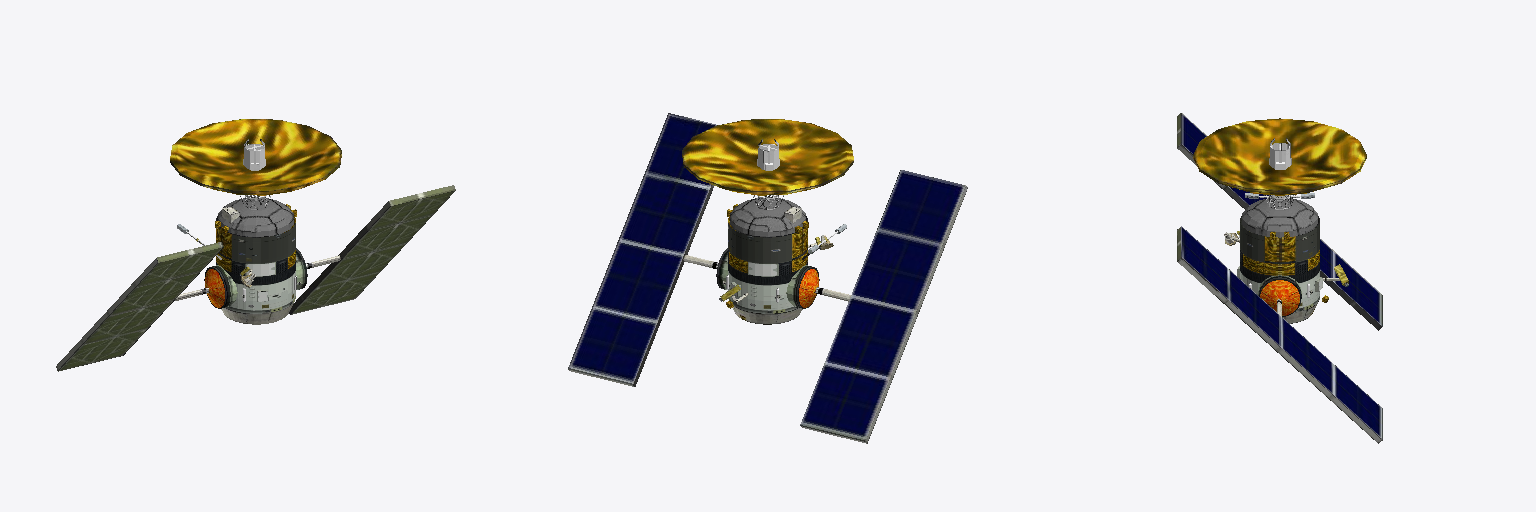
3 views of the same model, side by side, from view 1: azimuth 30°, elevation 25°; view 2: azimuth 150°, elevation 25°; view 3: azimuth 270°, elevation 25° (orthographic).
Visible parts, largest first — view 1: Object__23, Object__25, Object__27, Object__9, Object__7, Object__2, Object__11, Object__5, Object__0, Object__211; view 2: Object__25, Object__27, Object__23, Object__7, Object__9, Object__2, Object__11, Object__5, Object__0, Object__211; view 3: Object__23, Object__27, Object__25, Object__9, Object__7, Object__11, Object__2, Object__5, Object__211.
Part boxes in pixels (left/top/right/bottom): Object__23: left=170, top=119, right=341, bottom=195; Object__25: left=56, top=242, right=223, bottom=371; Object__27: left=289, top=185, right=455, bottom=314; Object__9: left=218, top=197, right=293, bottom=236; Object__7: left=216, top=217, right=295, bottom=263; Object__2: left=216, top=262, right=295, bottom=313; Object__11: left=204, top=248, right=307, bottom=308; Object__5: left=216, top=234, right=295, bottom=276; Object__0: left=221, top=303, right=293, bottom=324; Object__211: left=243, top=140, right=265, bottom=170; Object__25: left=800, top=170, right=967, bottom=443; Object__27: left=568, top=113, right=716, bottom=386; Object__23: left=682, top=119, right=853, bottom=195; Object__7: left=728, top=216, right=807, bottom=263; Object__9: left=730, top=197, right=805, bottom=236; Object__2: left=728, top=262, right=807, bottom=313; Object__11: left=716, top=248, right=819, bottom=308; Object__5: left=728, top=250, right=807, bottom=276; Object__0: left=733, top=306, right=802, bottom=324; Object__211: left=757, top=140, right=779, bottom=170; Object__23: left=1193, top=118, right=1366, bottom=195; Object__27: left=1177, top=226, right=1382, bottom=443; Object__25: left=1177, top=113, right=1382, bottom=330; Object__9: left=1242, top=198, right=1317, bottom=237; Object__7: left=1240, top=217, right=1319, bottom=263; Object__11: left=1258, top=275, right=1301, bottom=316; Object__2: left=1240, top=263, right=1319, bottom=312; Object__5: left=1240, top=234, right=1319, bottom=275; Object__211: left=1269, top=139, right=1291, bottom=169.
Bounding box in the file's own units: 20000 × 14838 × 11967.
Materials: 1 (1 with a texture image).